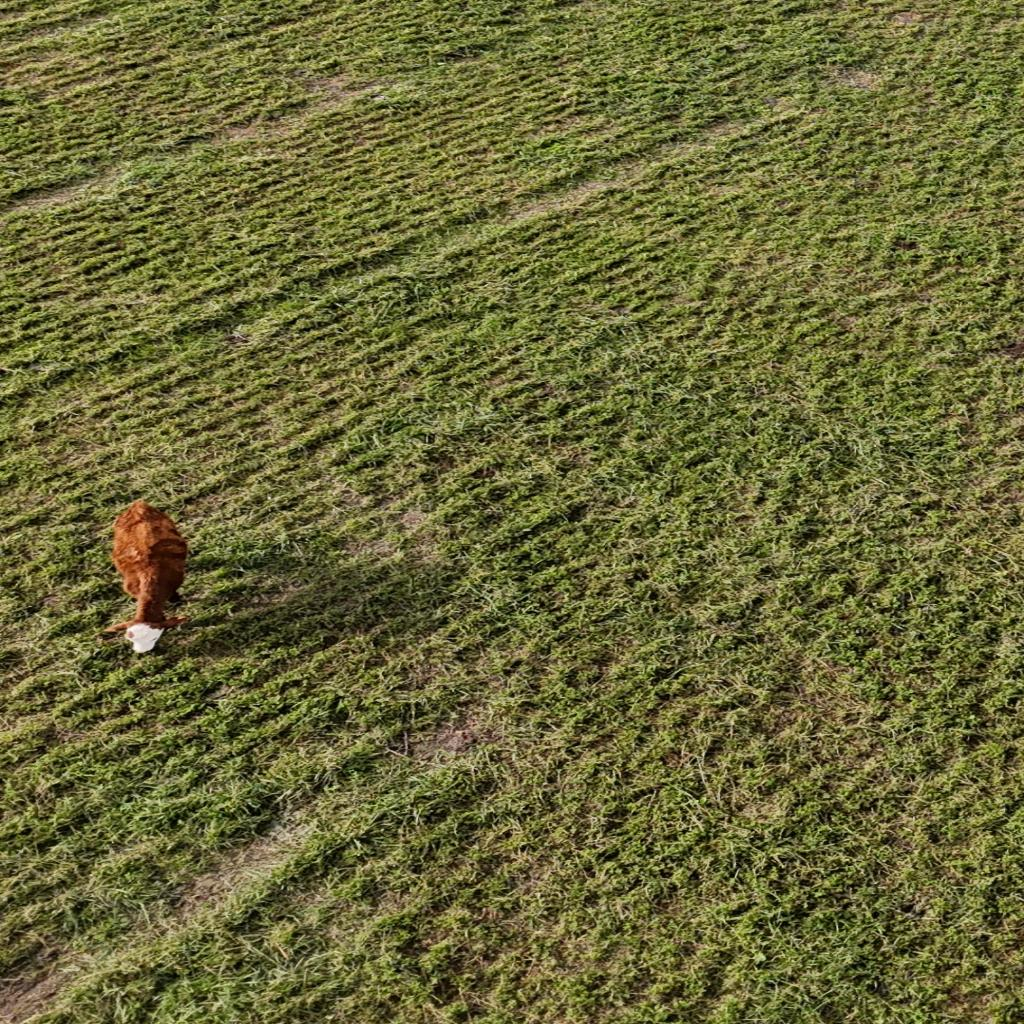cow: (88, 501, 198, 656)
